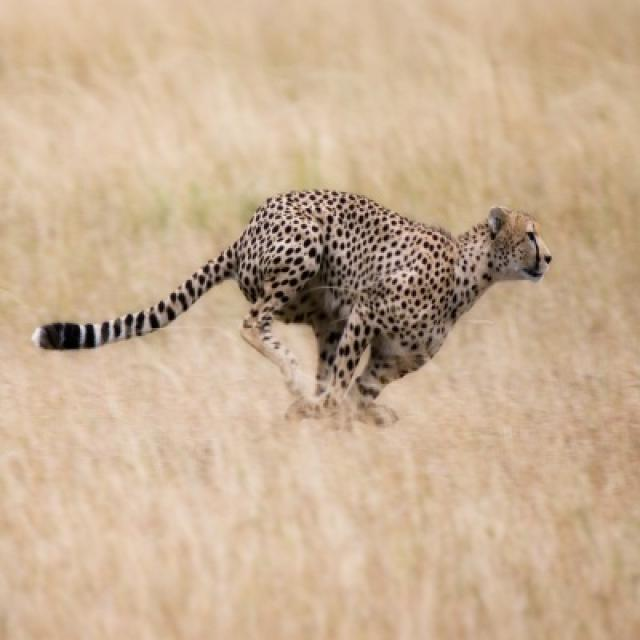Cheetah: (32, 190, 554, 426)
